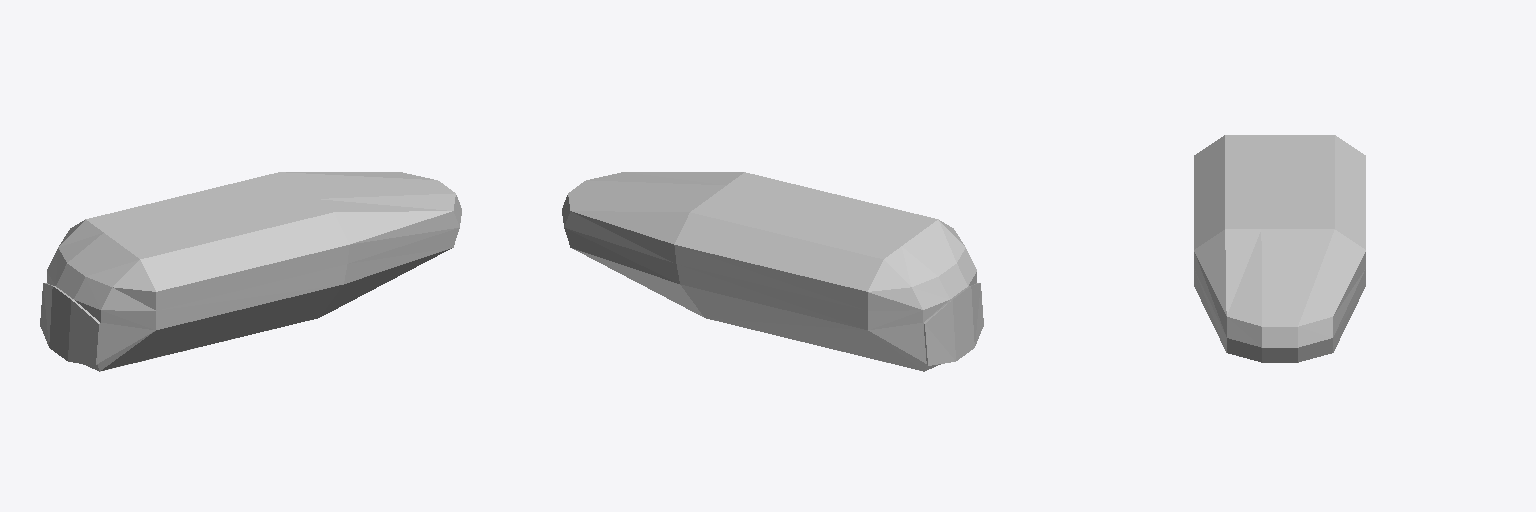
Rendered from ship_grav_field.obj.
3 views of the same model, side by side, from view 1: azimuth 30°, elevation 25°; view 2: azimuth 150°, elevation 25°; view 3: azimuth 270°, elevation 25° (orthographic).
Parts seen in each view (by area): view 1: Cube.002; view 2: Cube.002; view 3: Cube.002.
Boxes of the visible parts, x1,y1,x2,y2 form: Cube.002: [40, 172, 461, 371]; Cube.002: [562, 172, 983, 371]; Cube.002: [1194, 135, 1365, 362].
Bounding box in the file's own units: 27.68 × 6.89 × 10.47.